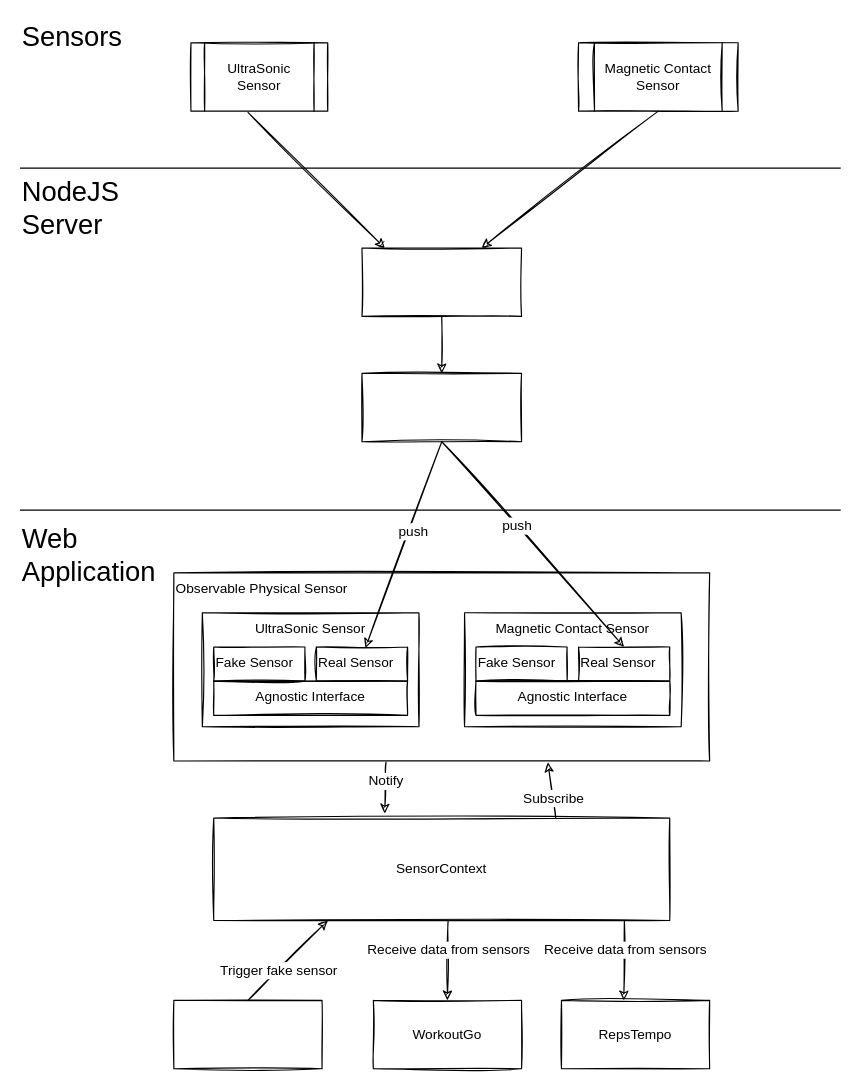
Image size: 862x1089. Some labels were removed from this diagram. The shapes that lost their labels are listed below. From the top down, each one's centre as x and y in pixels, then its label:
point (441, 281): gpio listeners
point (441, 407): web socket server
point (247, 1034): Dev Panel
